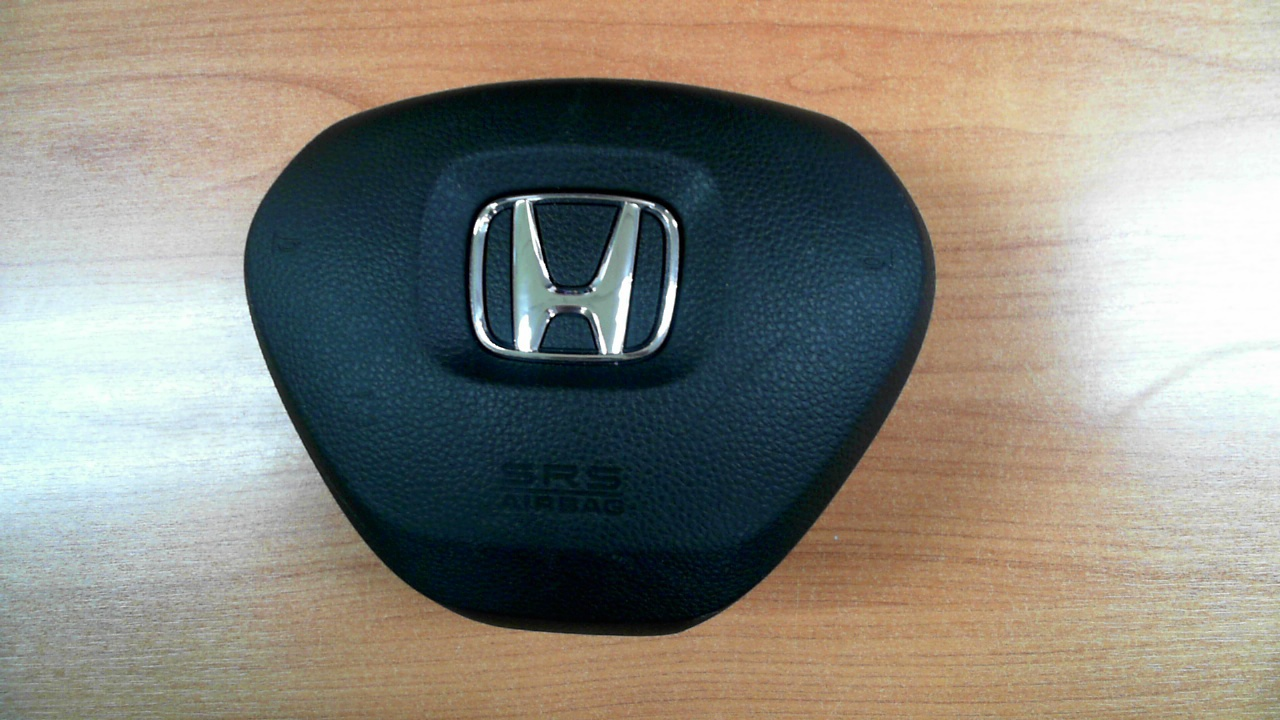Airbag: (243, 76, 936, 636)
Honda: (468, 192, 680, 366)
